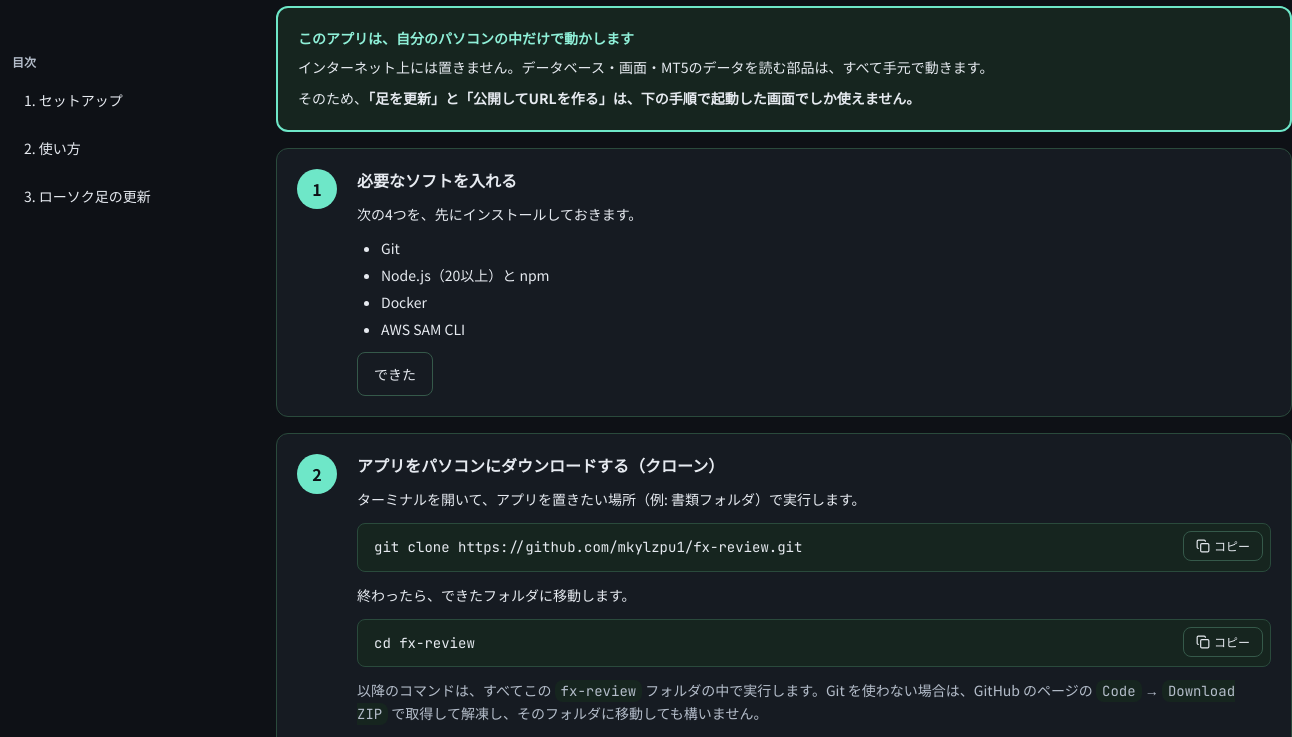
Scenario: ご利用ガイド › 「できた」を押すと進み具合が増え、覚えておく
This screenshot has width=1292, height=737.
Later steps or results of the test are not shown.
(page scrolled)
Click the button "できた" below "AWS SAM CLI": (395, 374) x1=357 y1=352 x2=433 y2=396
(page scrolled)
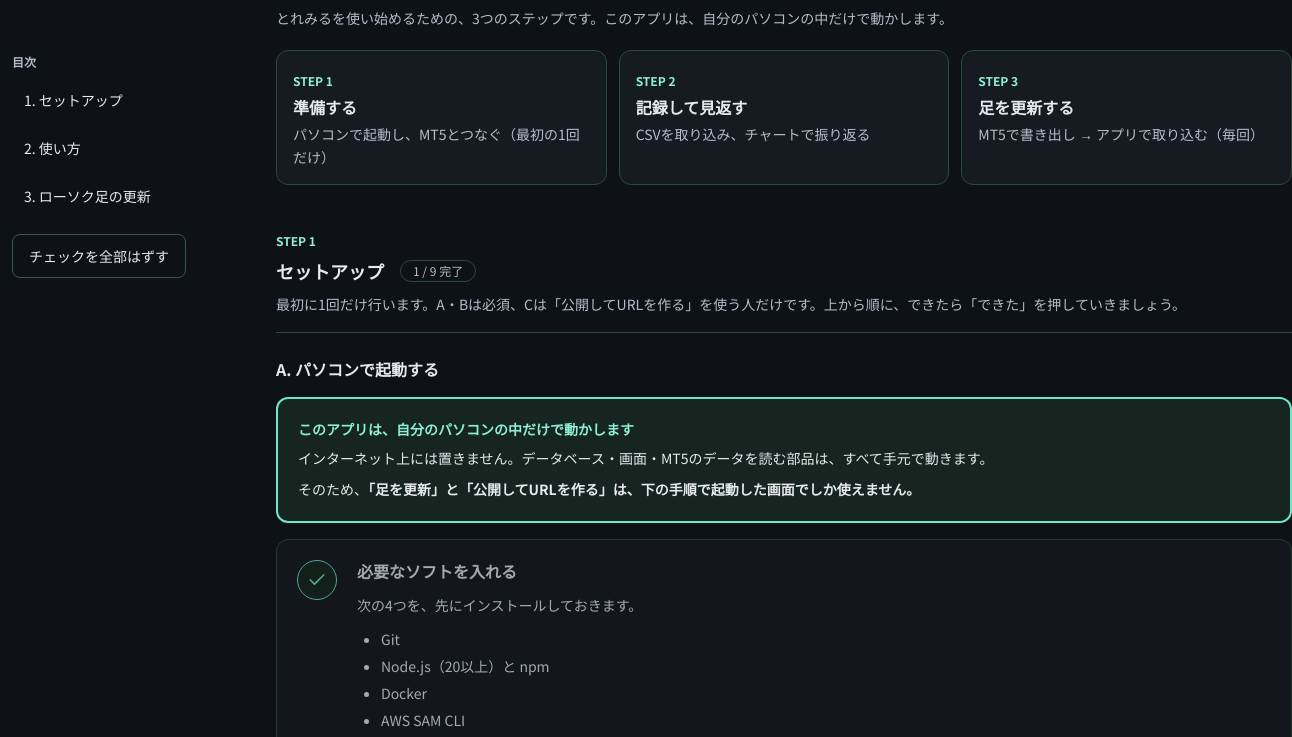
Now the text "1 / 9 完了" is shown, box x1=400 y1=260 x2=476 y2=282
